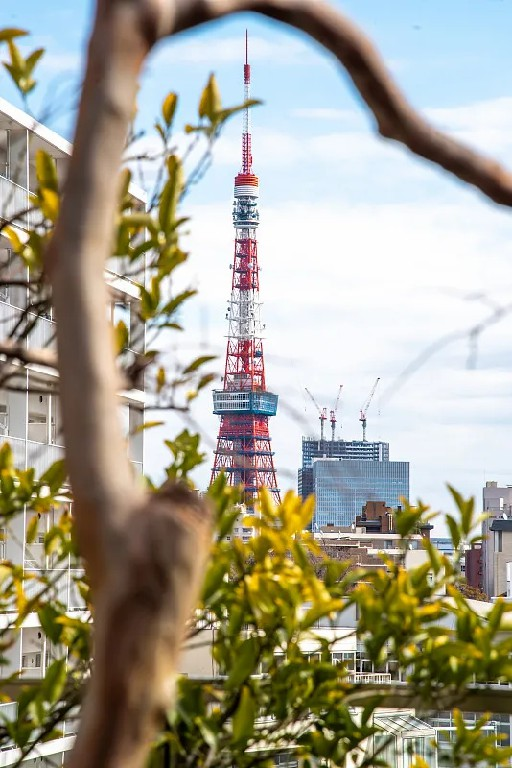Tokyo: (208, 21, 288, 526)
